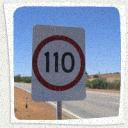speed_limit_110: (31, 21, 88, 103)
